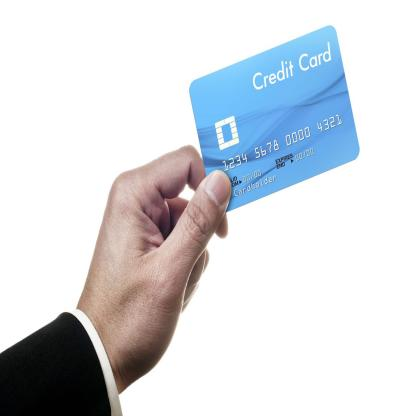tarjeta: (189, 23, 361, 216)
